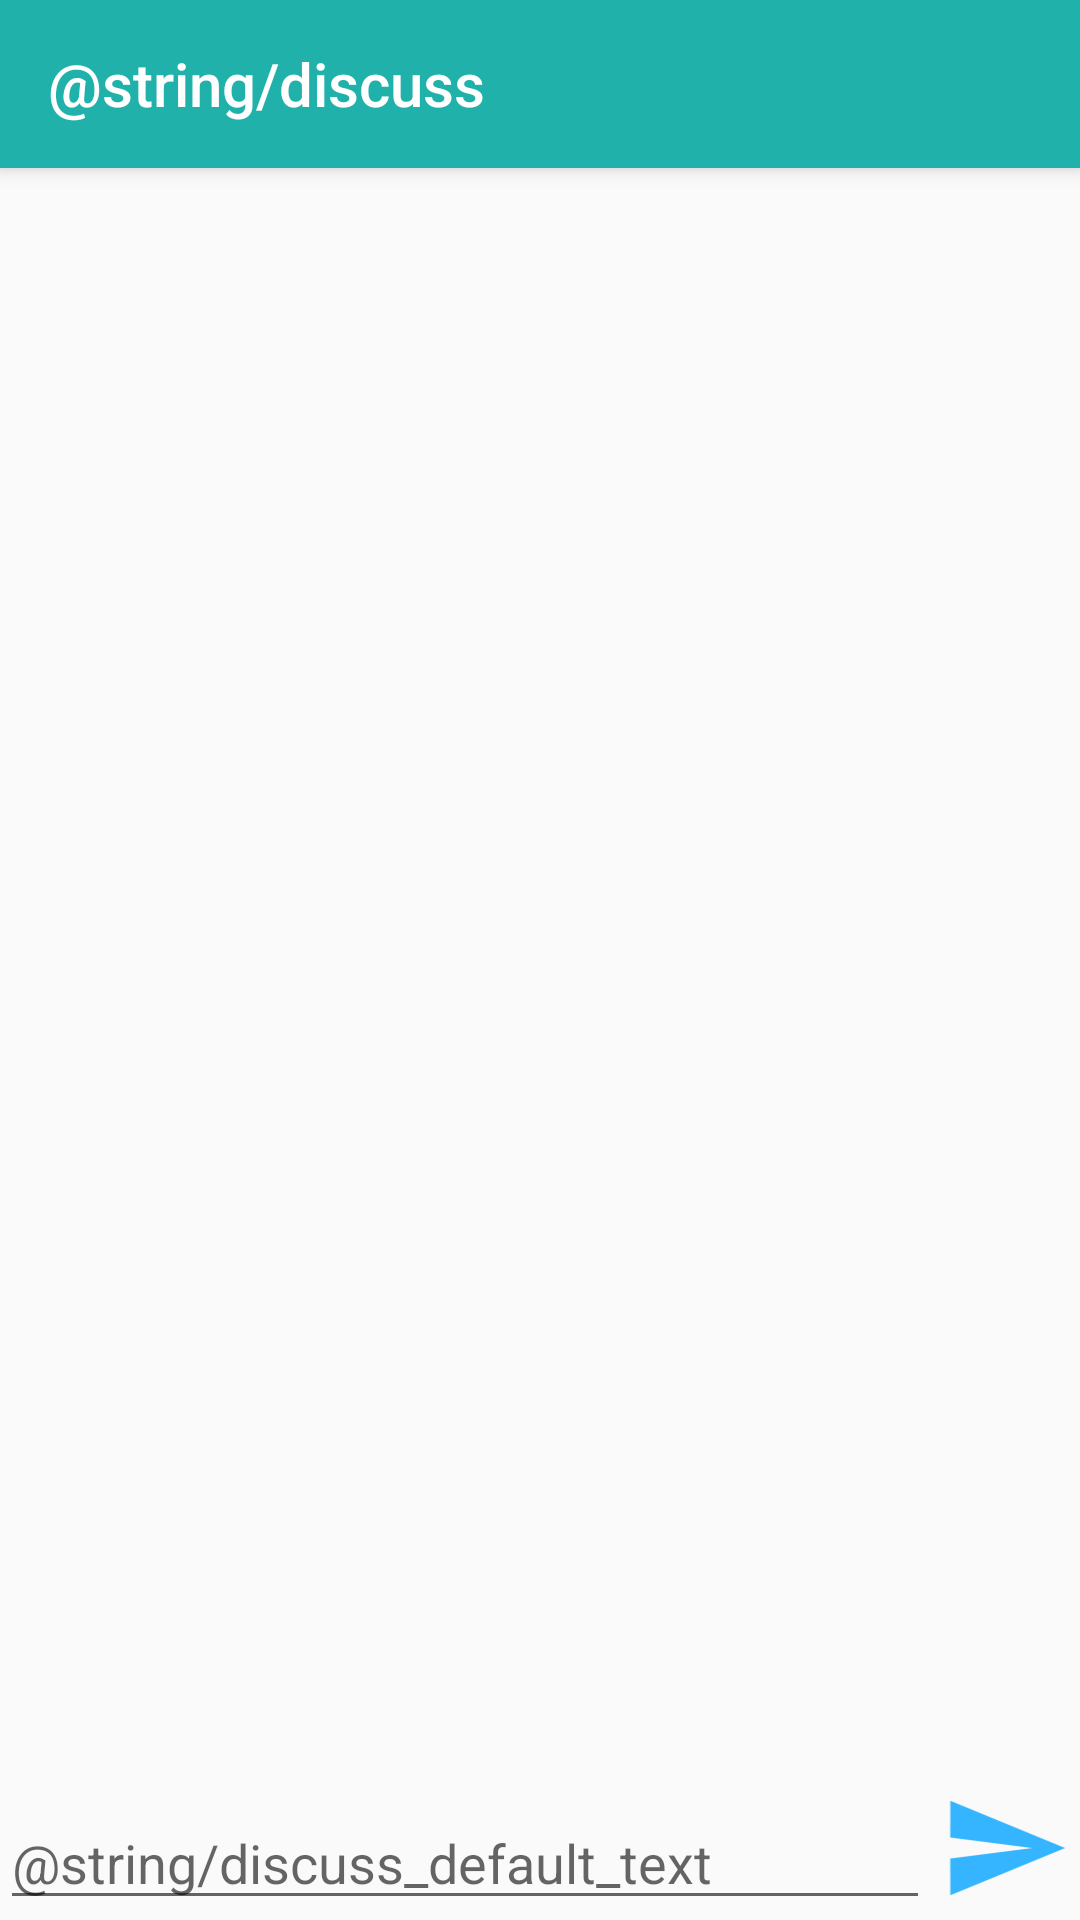

Where to tap for icons on this 1080px x 1920px app screen, as [x,y]:
send: [1007,1848]
